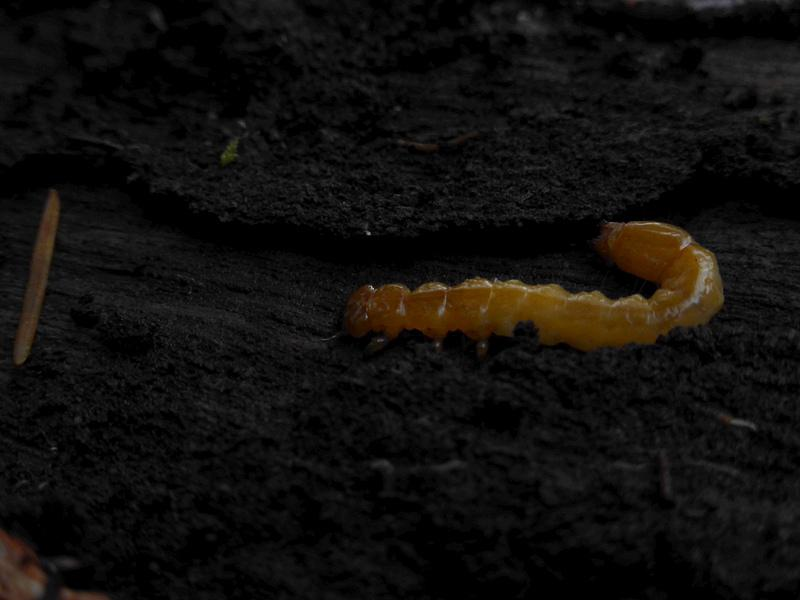grub: (332, 207, 731, 353)
